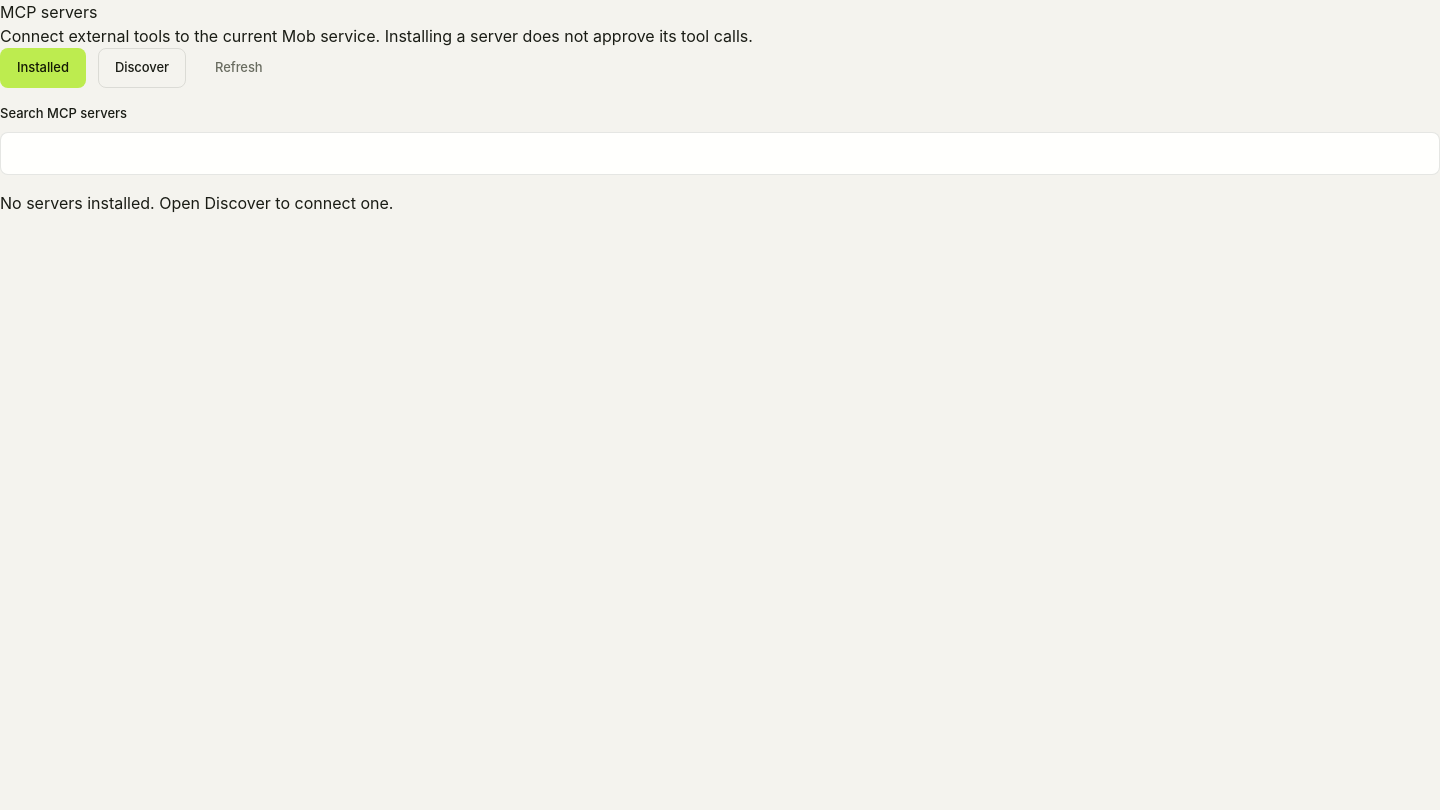
it: requires a review before MCP installation and blocks entries needing headers
Expected: the text "No servers installed. Open Discover to connect one." is shown, [0,192,393,212]
What coordinates should you click on to do the following:
click the button "Discover"
I would click on:
 (142, 68)
Its box is [98,48,186,88].
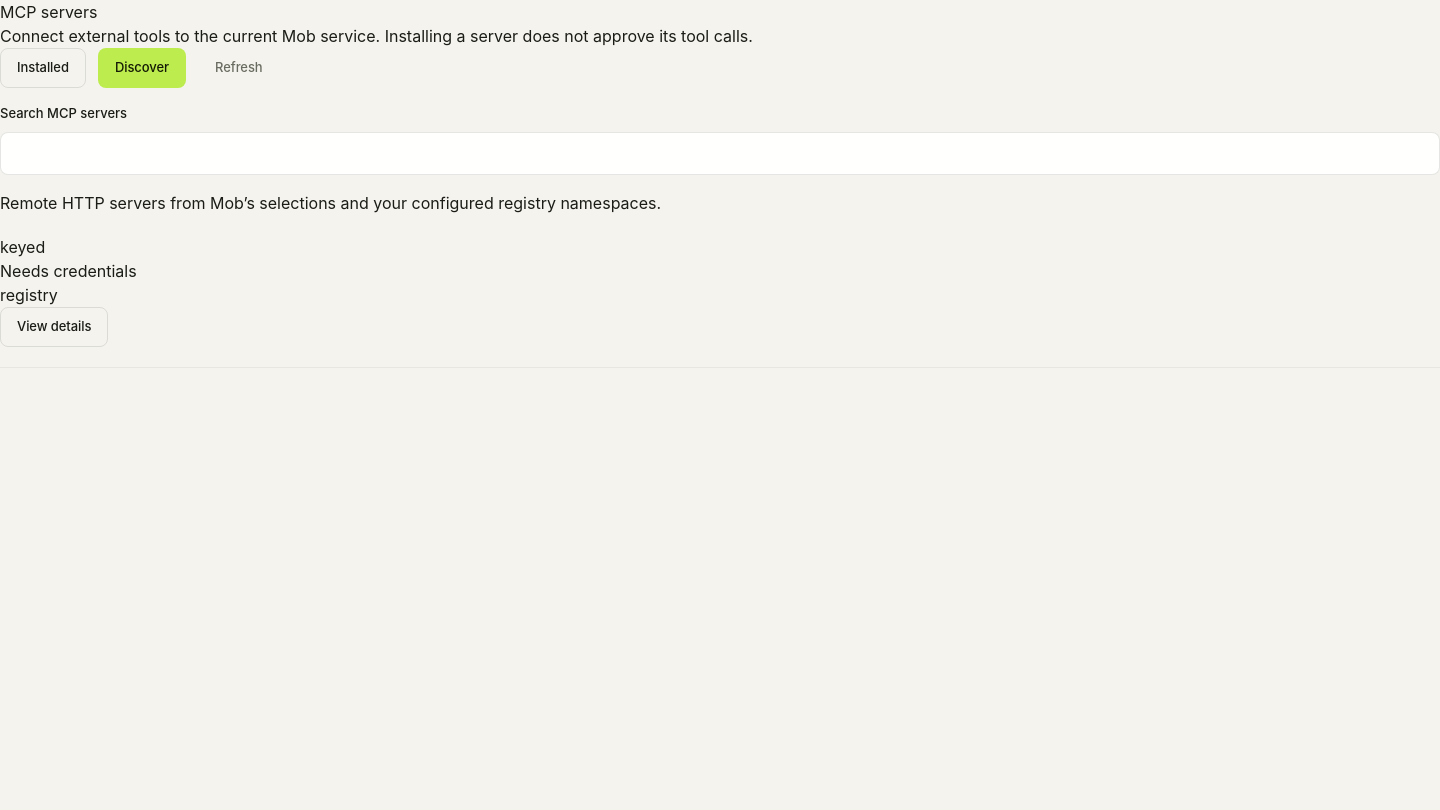
What coordinates should you click on to do the following:
click the button "View details"
I would click on:
 (54, 326)
Its box is [0,306,108,346].
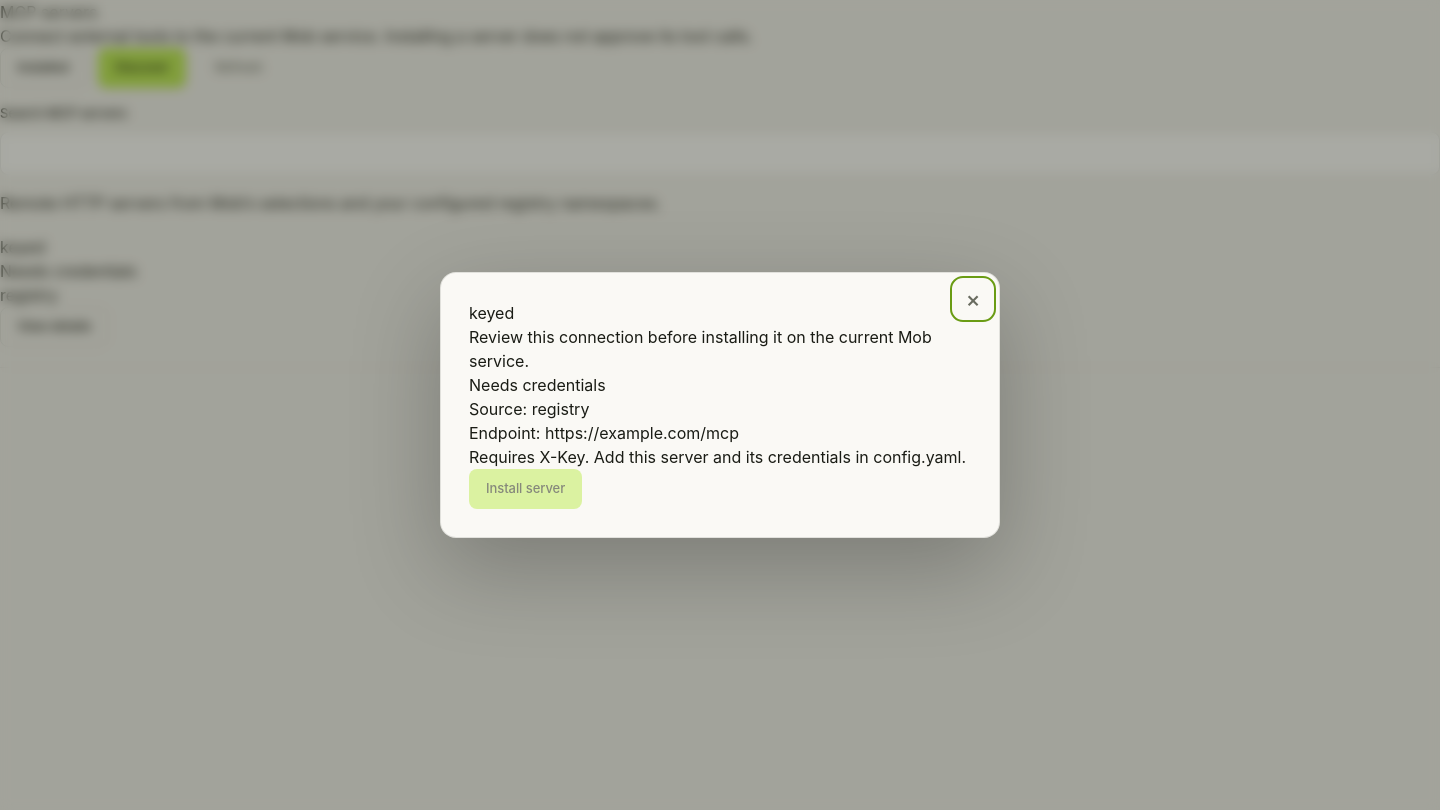
Expected: the button "Install server" is disabled, [469,469,582,509]
